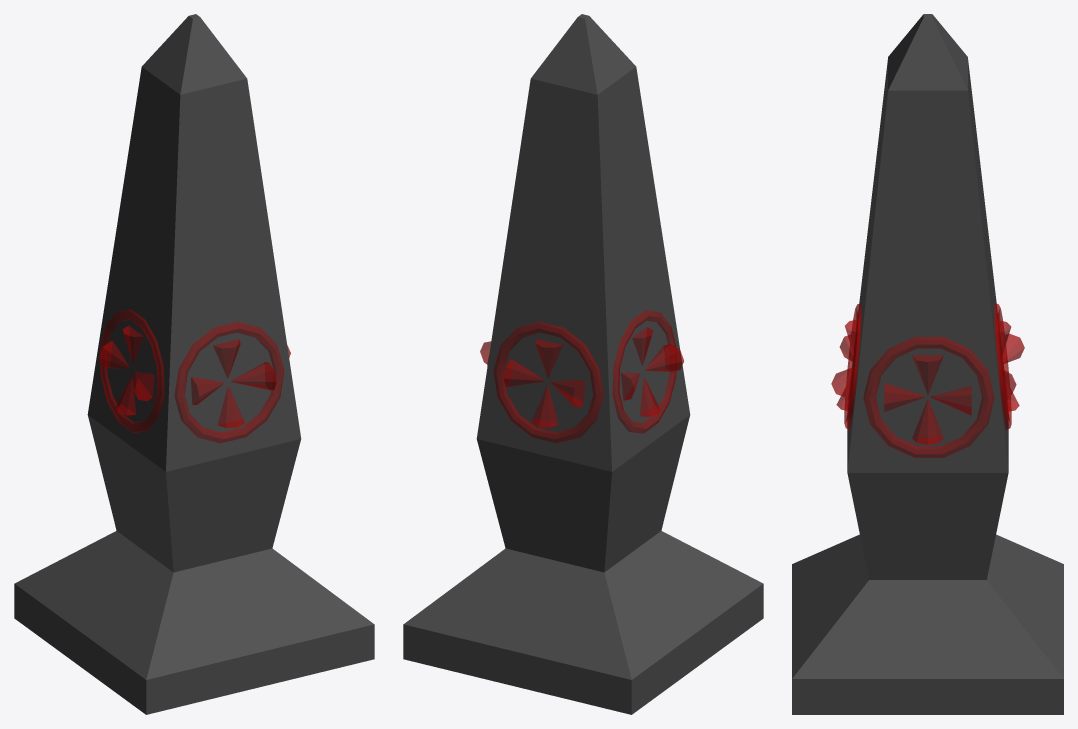
File: catalyst Obelisk.fbx
3 views of the same model, side by side, from view 1: azimuth 30°, elevation 25°; view 2: azimuth 150°, elevation 25°; view 3: azimuth 270°, elevation 25° (orthographic). The views are drawn at different scales.
Parts seen in each view (by area): view 1: Cube1; view 2: Cube1; view 3: Cube1.
Boxes of the visible parts, x1,y1,x2,y2 form: Cube1: (14, 14, 374, 714); Cube1: (403, 14, 763, 714); Cube1: (792, 14, 1063, 714).
Size of the model in its own units: 4.28 by 11.14 by 4.28.
